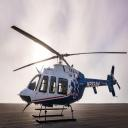helicopter: (14, 15, 123, 128)
